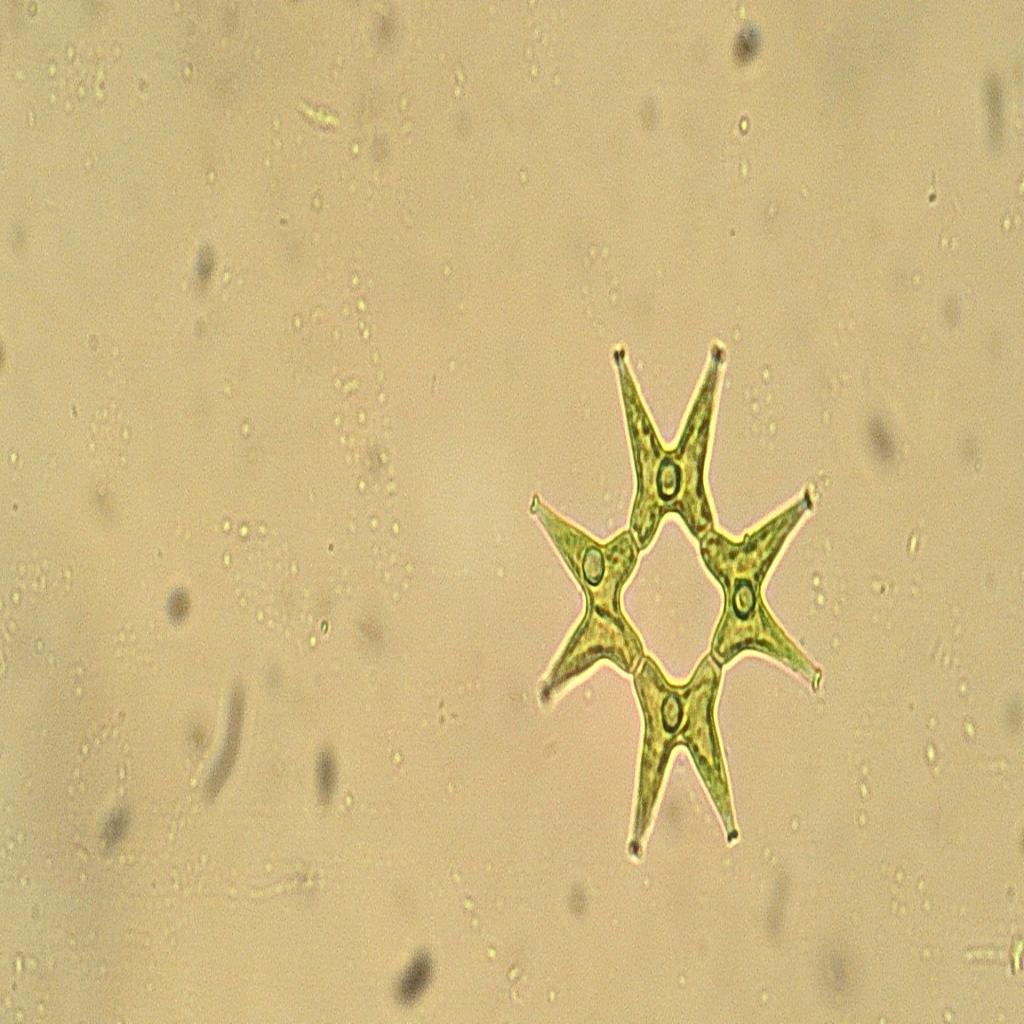Pediastrum_CO: (518, 330, 827, 882)
